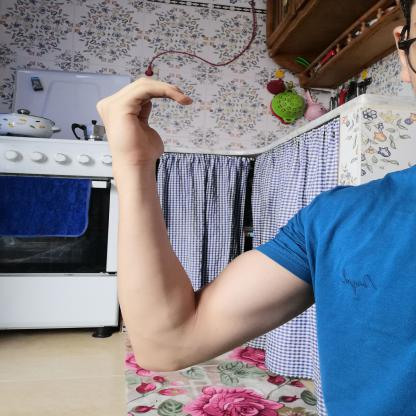HAA: (80, 68, 203, 166)
